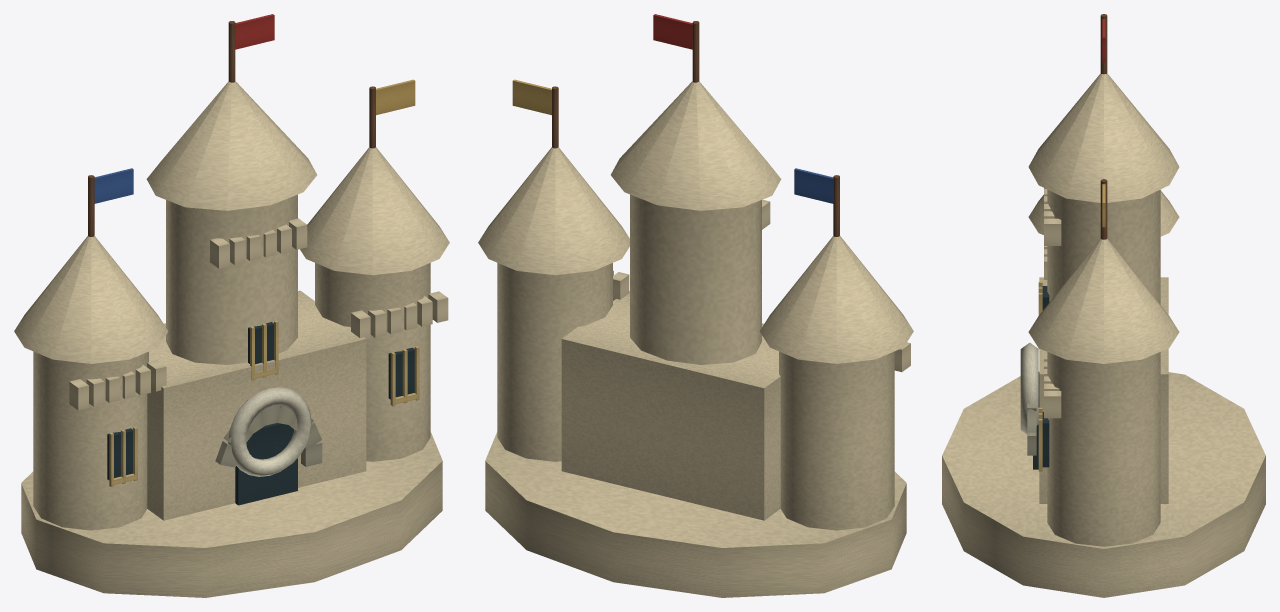
Rendered from sand_castle.glb.
3 views of the same model, side by side, from view 1: azimuth 30°, elevation 25°; view 2: azimuth 150°, elevation 25°; view 3: azimuth 270°, elevation 25° (orthographic). The views are drawn at different scales.
Visible parts, largest first — view 1: static_ornament; view 2: static_ornament; view 3: static_ornament.
Part boxes in pixels (<box>): static_ornament: <box>14,14,449,597</box>; static_ornament: <box>478,14,913,597</box>; static_ornament: <box>942,14,1265,597</box>.
Bounding box in the file's own units: 1.74 × 2 × 1.2.
Materials: 1 (1 with a texture image).
